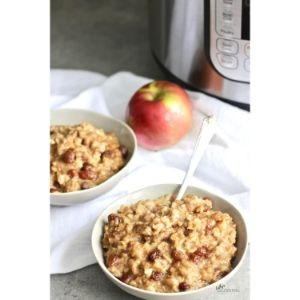oat_brain food: (100, 205, 250, 288), (57, 124, 107, 179)
